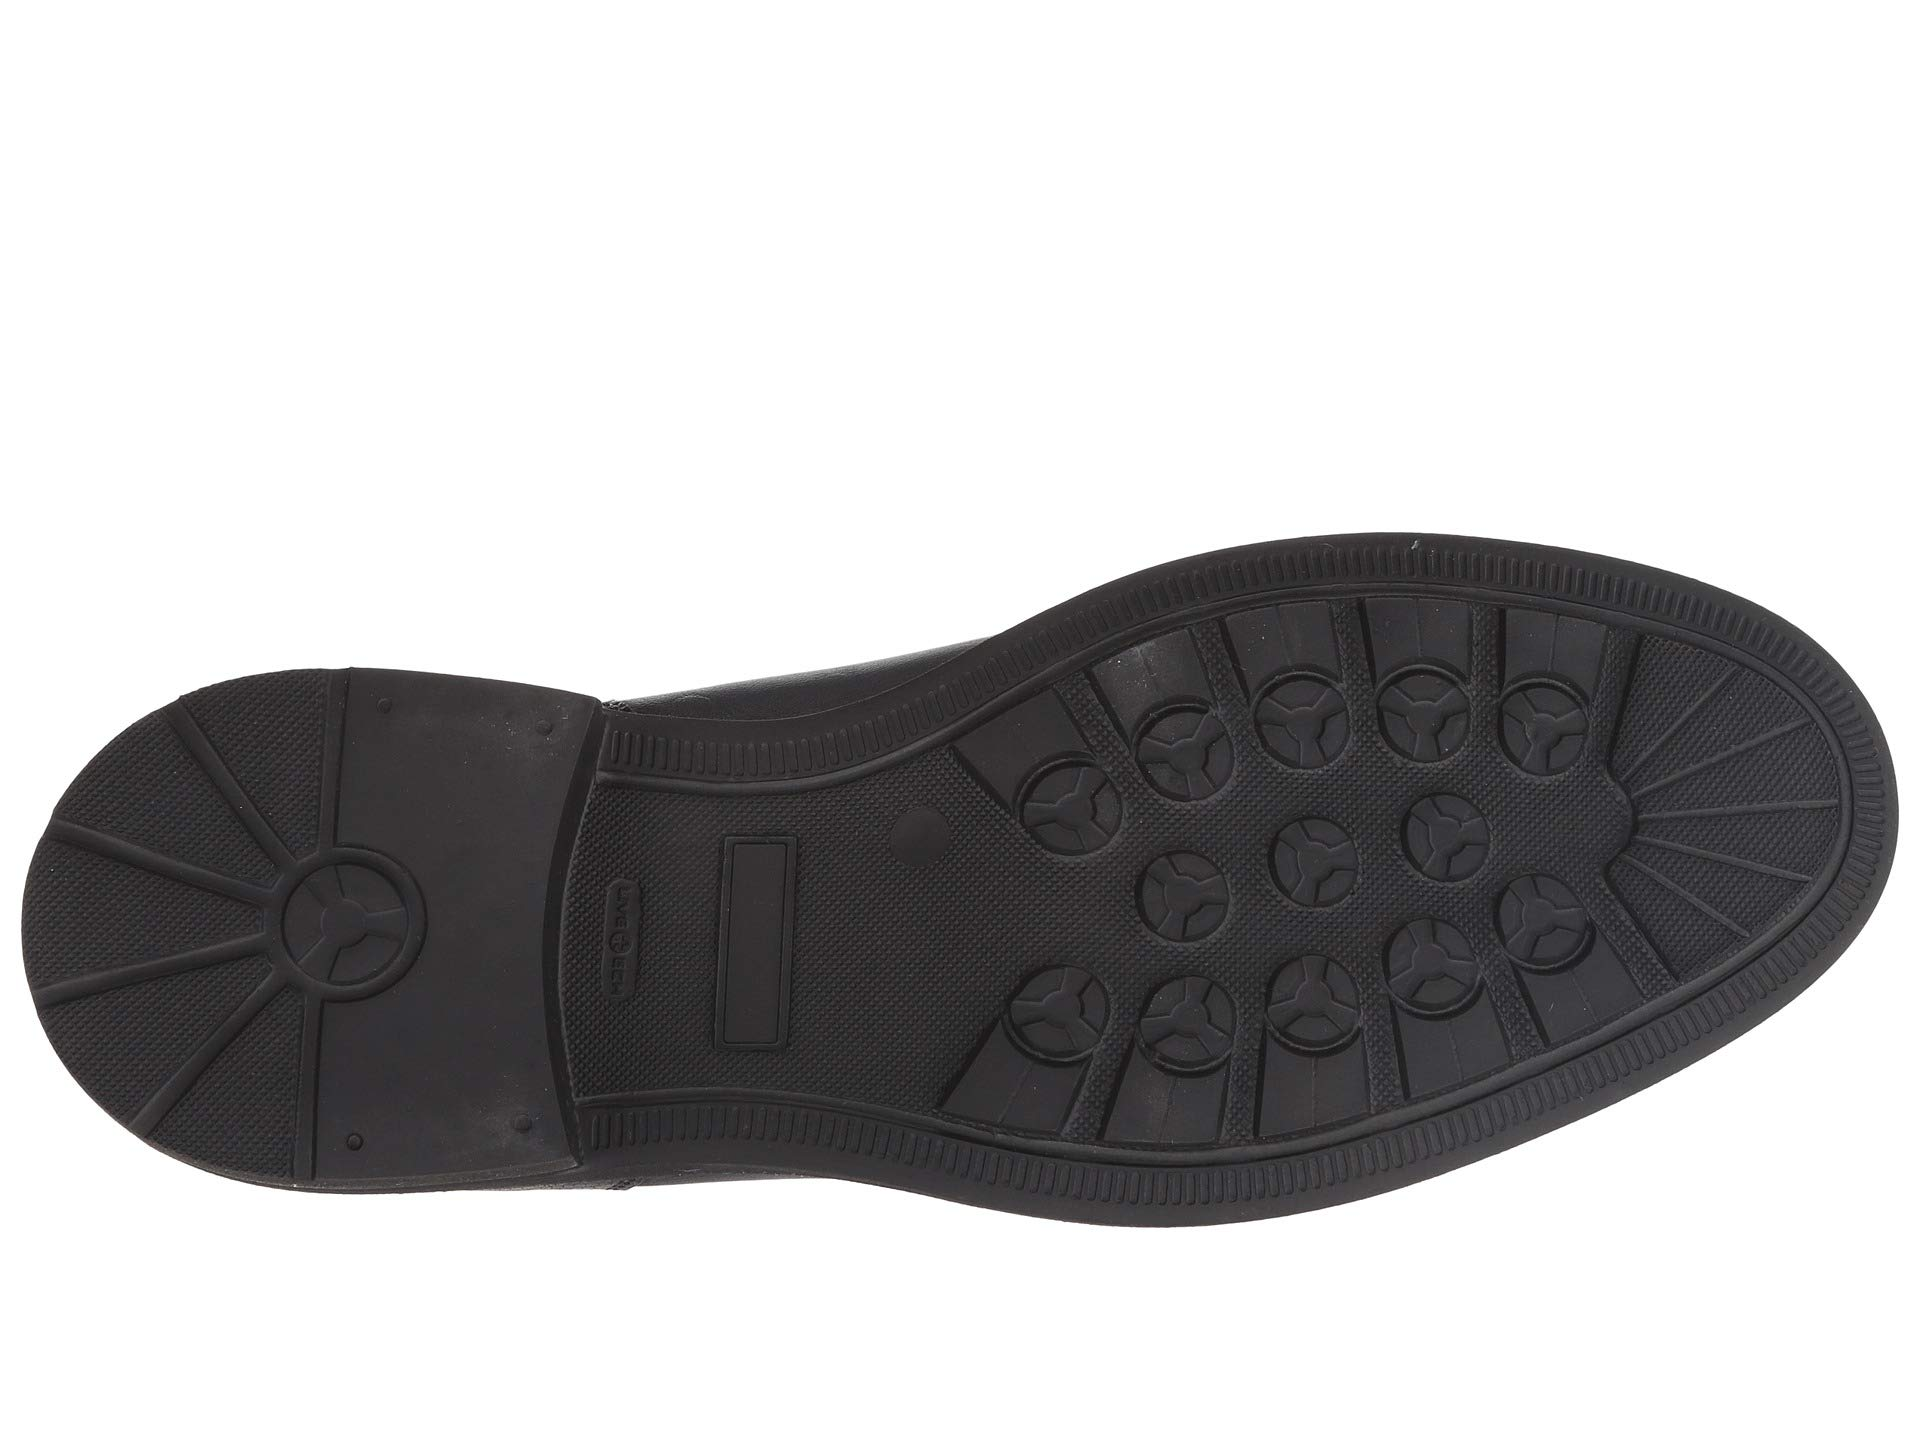circle: (919, 681, 1350, 1104), (1339, 585, 1708, 959), (198, 768, 506, 1088)
quad: (919, 681, 1350, 1104), (1339, 585, 1708, 959)
star: (919, 681, 1350, 1104), (1339, 585, 1708, 959), (198, 768, 506, 1088)
